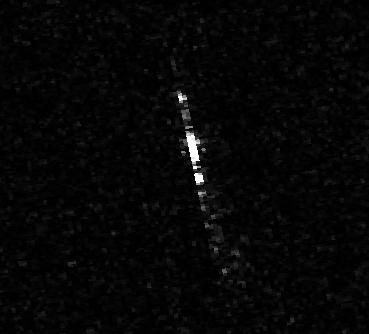ship: (173, 89, 210, 192)
